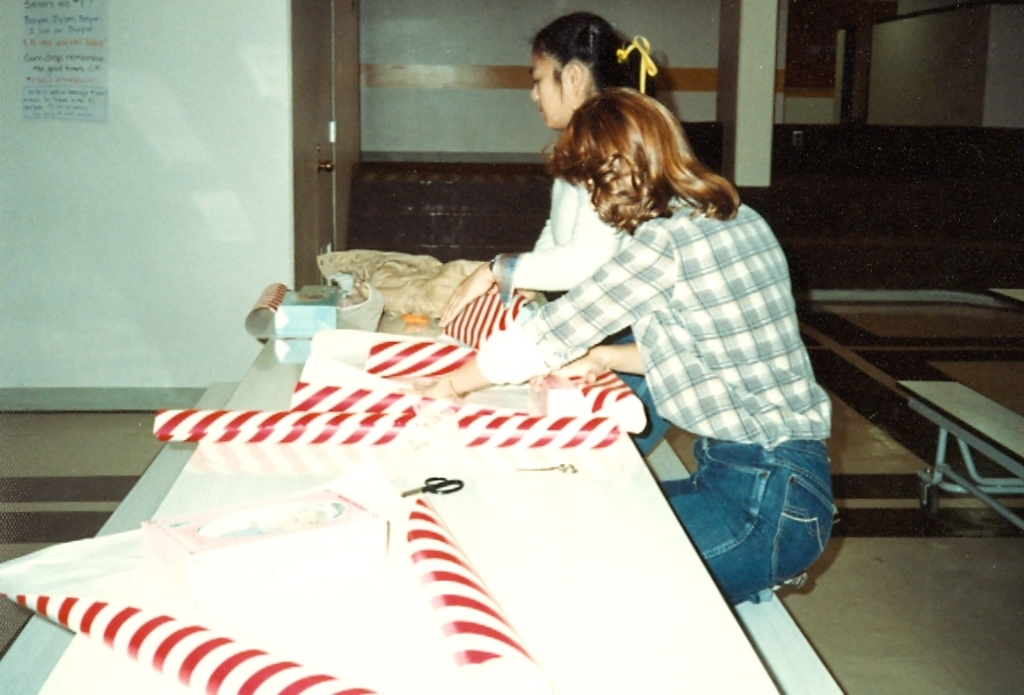Human-face: (533, 51, 571, 126)
